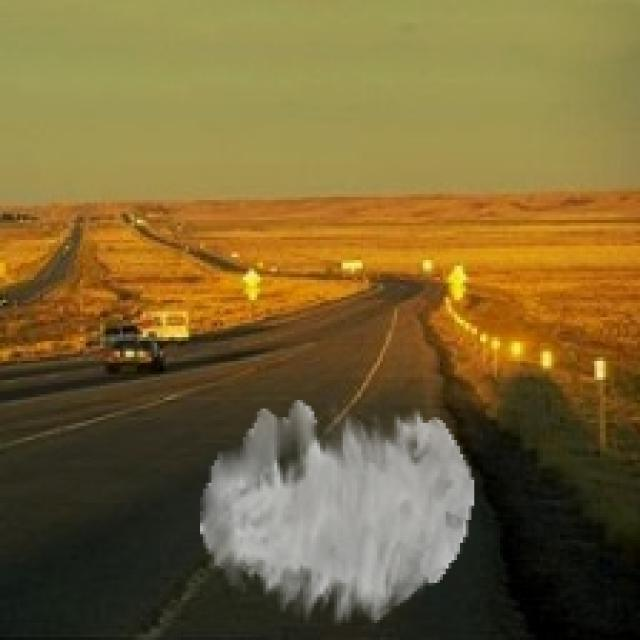Smoke: (200, 400, 474, 626)
